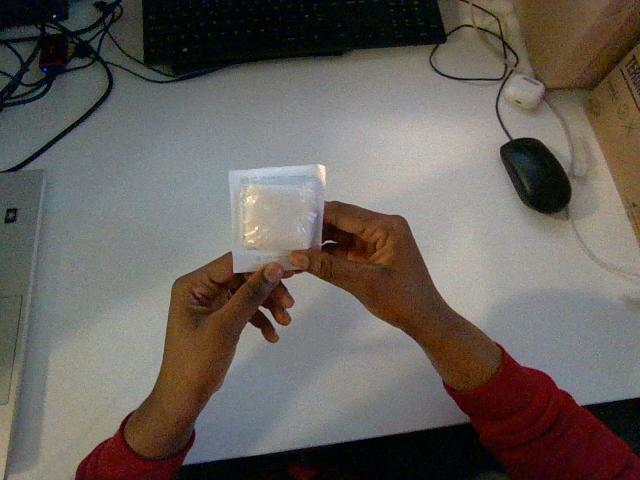gauze: (229, 164, 325, 272)
